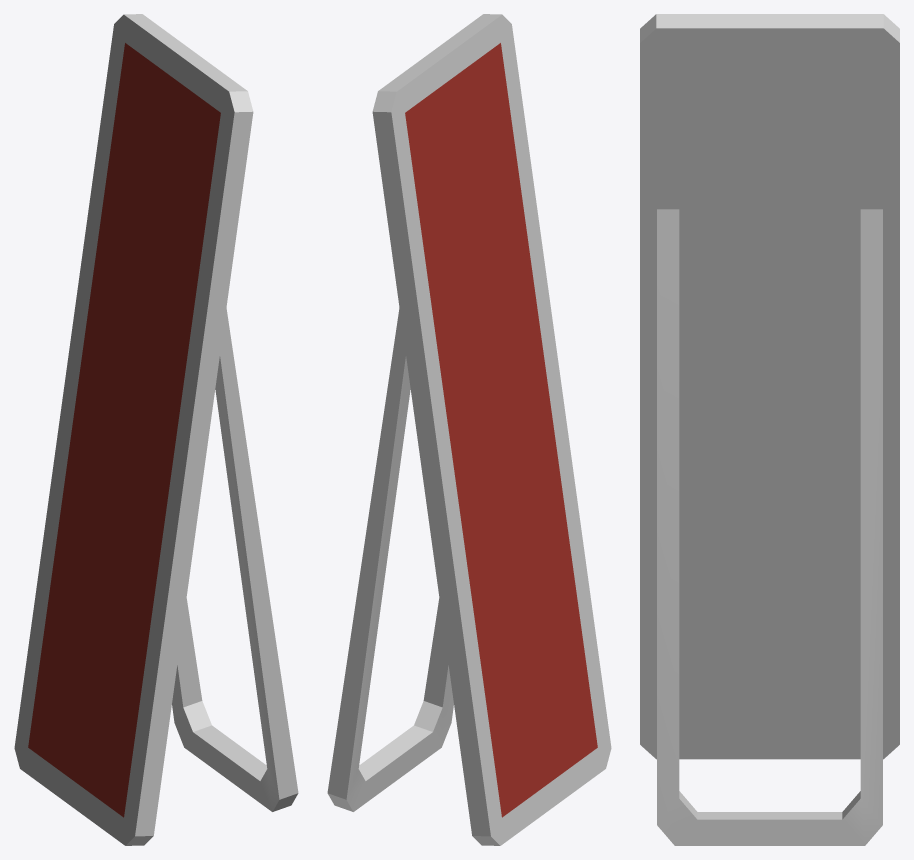
The model's file is SM_FloorMirror_01.fbx.
The picture shows the model from 3 angles, left to right: view 1: azimuth 30°, elevation 25°; view 2: azimuth 150°, elevation 25°; view 3: azimuth 270°, elevation 25°; orthographic projection. The views are drawn at different scales.
Parts seen in each view (by area): view 1: SM_FloorMirror_01; view 2: SM_FloorMirror_01; view 3: SM_FloorMirror_01.
Boxes of the visible parts, x1,y1,x2,y2 form: SM_FloorMirror_01: (14,14,298,845); SM_FloorMirror_01: (327,14,611,845); SM_FloorMirror_01: (640,14,899,845).
Bounding box in the file's own units: 44.4 × 180 × 53.05.
